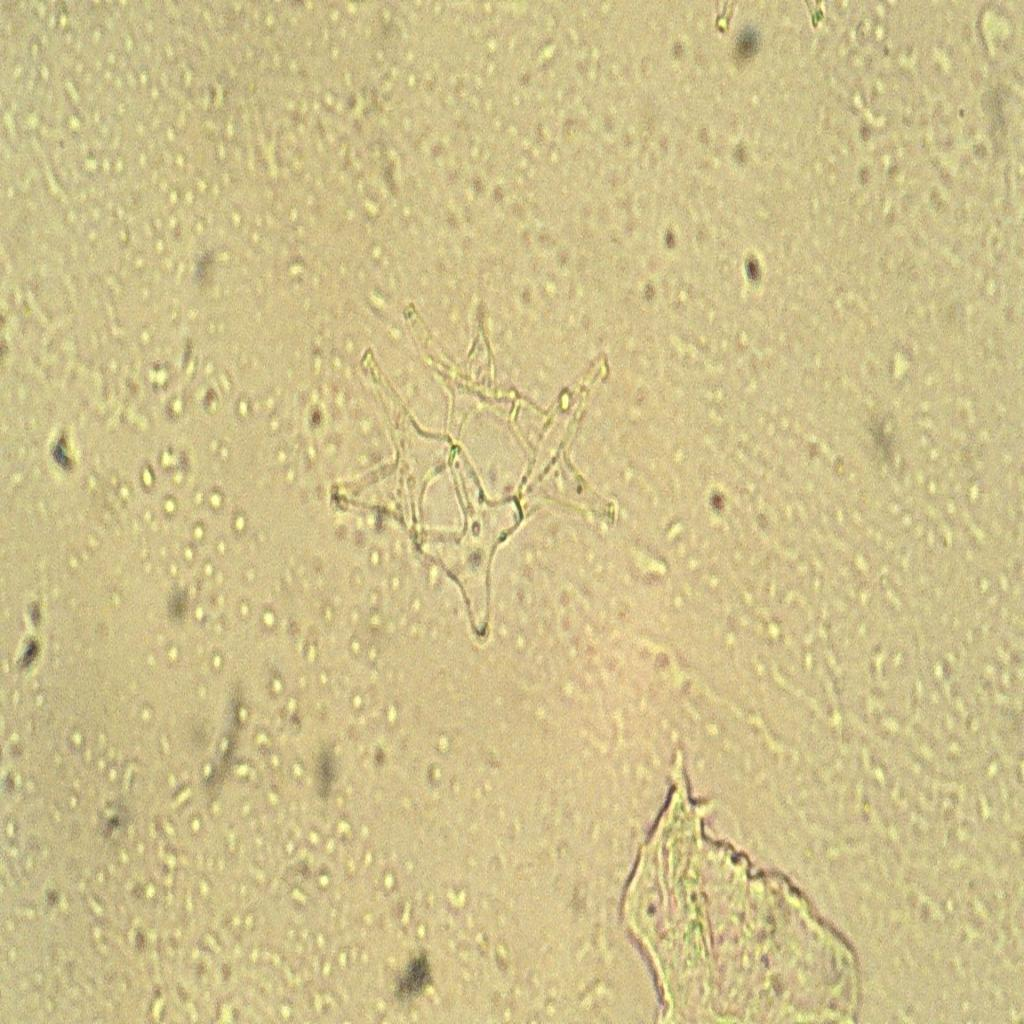Pediastrum_1F0: (312, 266, 628, 666)
